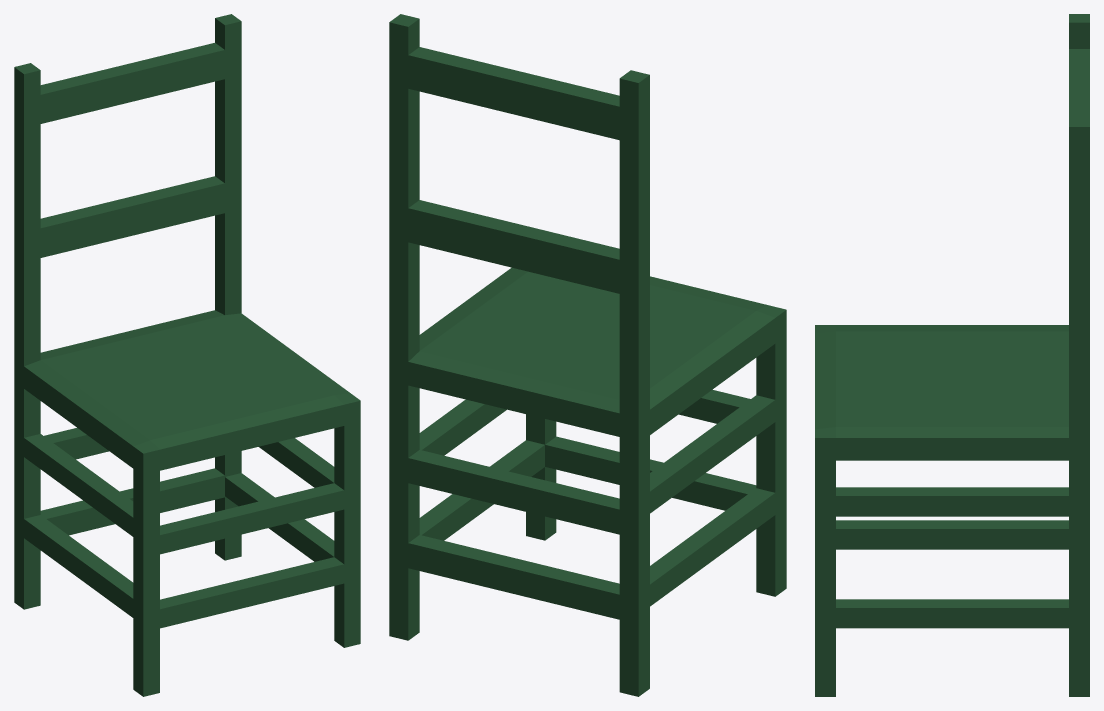
The model's file is cube.118_lev3.glb.
3 views of the same model, side by side, from view 1: azimuth 30°, elevation 25°; view 2: azimuth 150°, elevation 25°; view 3: azimuth 270°, elevation 25° (orthographic). The views are drawn at different scales.
Parts seen in each view (by area): view 1: cube.118_lev3; view 2: cube.118_lev3; view 3: cube.118_lev3.
Part boxes in pixels (x1=…): cube.118_lev3: x1=14, y1=14, x2=360, y2=696; cube.118_lev3: x1=389, y1=14, x2=786, y2=696; cube.118_lev3: x1=815, y1=14, x2=1089, y2=696.
Size of the model in its own units: 0.2561 by 0.6026 by 0.2635.
